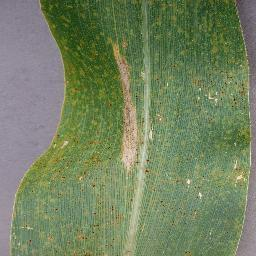Corn_Blight: (35, 2, 94, 119), (8, 198, 126, 253), (106, 33, 145, 182), (24, 124, 101, 188), (189, 78, 247, 108), (156, 172, 209, 201), (146, 111, 163, 172), (230, 162, 249, 189), (154, 60, 176, 83), (235, 140, 246, 152), (180, 250, 199, 256)
